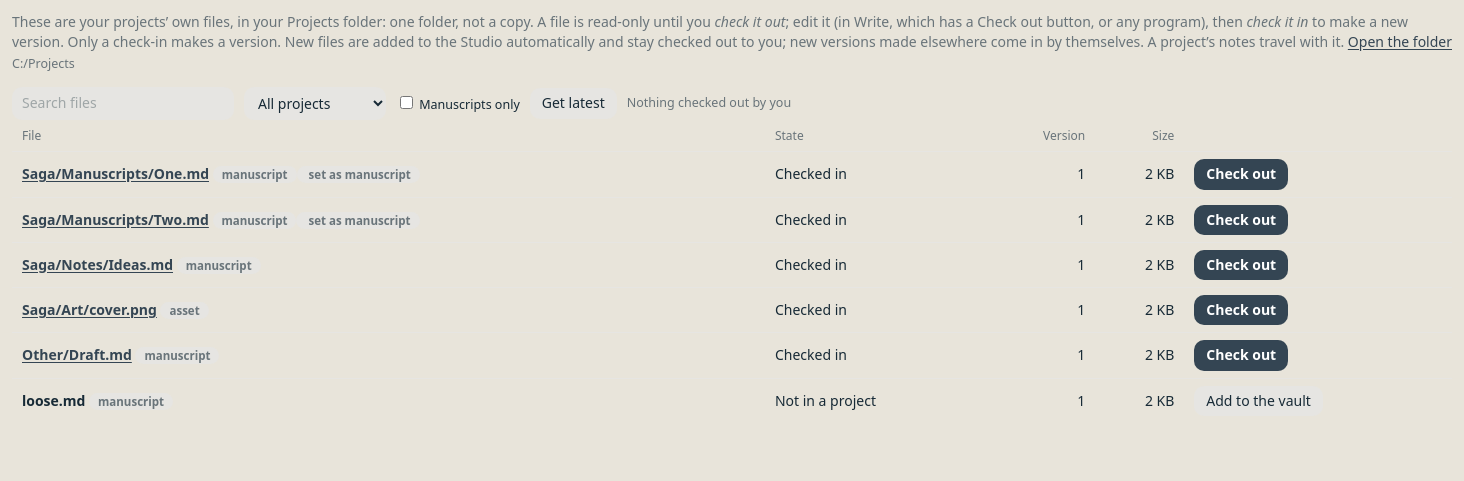
the right-click menu of a file › shows a refusal in the Studio’s words
This screenshot has width=1464, height=481.
Right-click the row "Saga/Notes/Ideas.md manuscript Checked in 1 2 KB Check out" at x=732, y=265, box [12,242,1452,288]
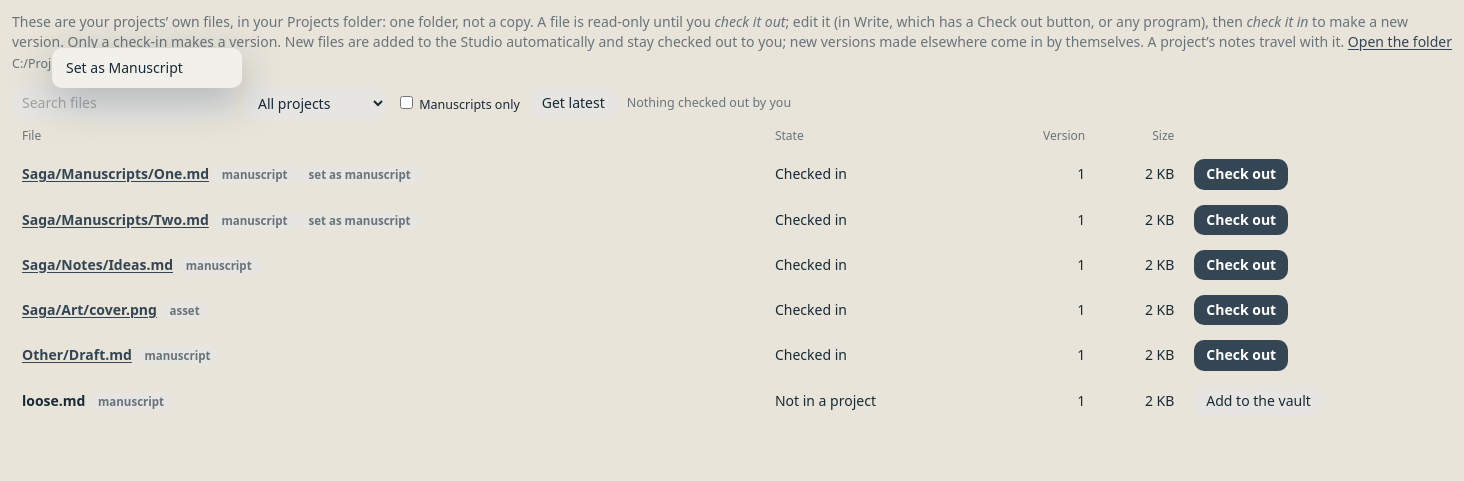
Check: the menu item "Set as Manuscript" is shown
Click the menu item "Set as Manuscript" at x=147, y=68, box [56,52,238,84]
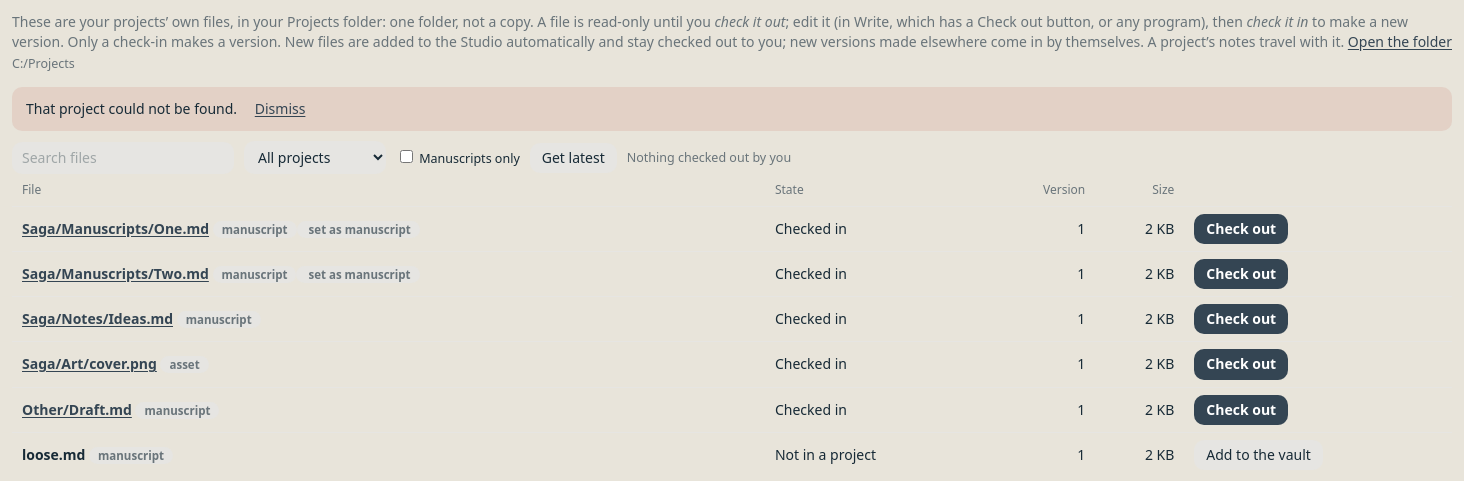
Check: the message "That project could not be found. Dismiss" is shown, box [12,87,1452,131]
